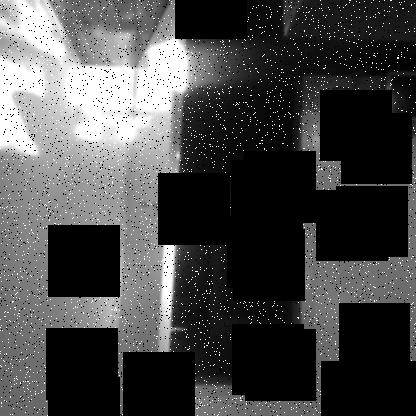Porte: (101, 1, 318, 415)
